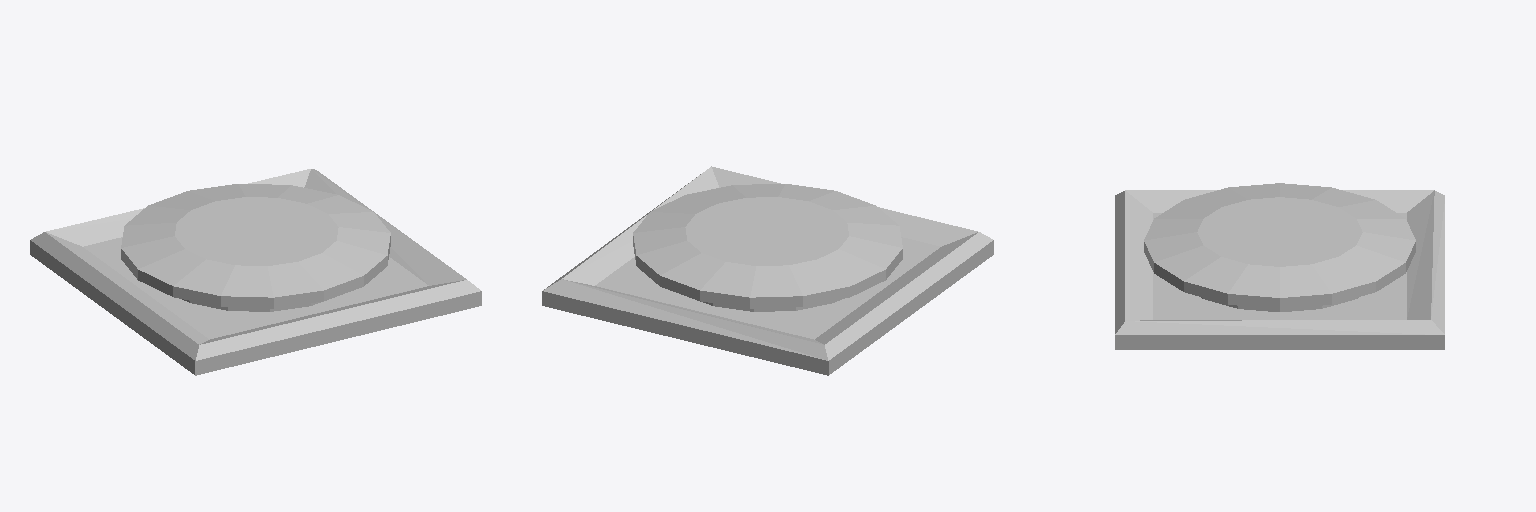
File: PressurePlate.obj
The picture shows the model from 3 angles: view 1: azimuth 30°, elevation 25°; view 2: azimuth 150°, elevation 25°; view 3: azimuth 270°, elevation 25°; orthographic projection.
Parts seen in each view (by area): view 1: Button_Cube.002, PressurePlate_Cube.001; view 2: Button_Cube.002, PressurePlate_Cube.001; view 3: Button_Cube.002, PressurePlate_Cube.001.
Boxes of the visible parts, box(x1,y1,x2,y2) form: Button_Cube.002: box(121, 184, 390, 311); PressurePlate_Cube.001: box(30, 169, 481, 375); Button_Cube.002: box(633, 184, 902, 311); PressurePlate_Cube.001: box(542, 166, 993, 375); Button_Cube.002: box(1144, 183, 1415, 311); PressurePlate_Cube.001: box(1115, 190, 1444, 349).
Bounding box in the file's own units: 4 × 0.6476 × 4.